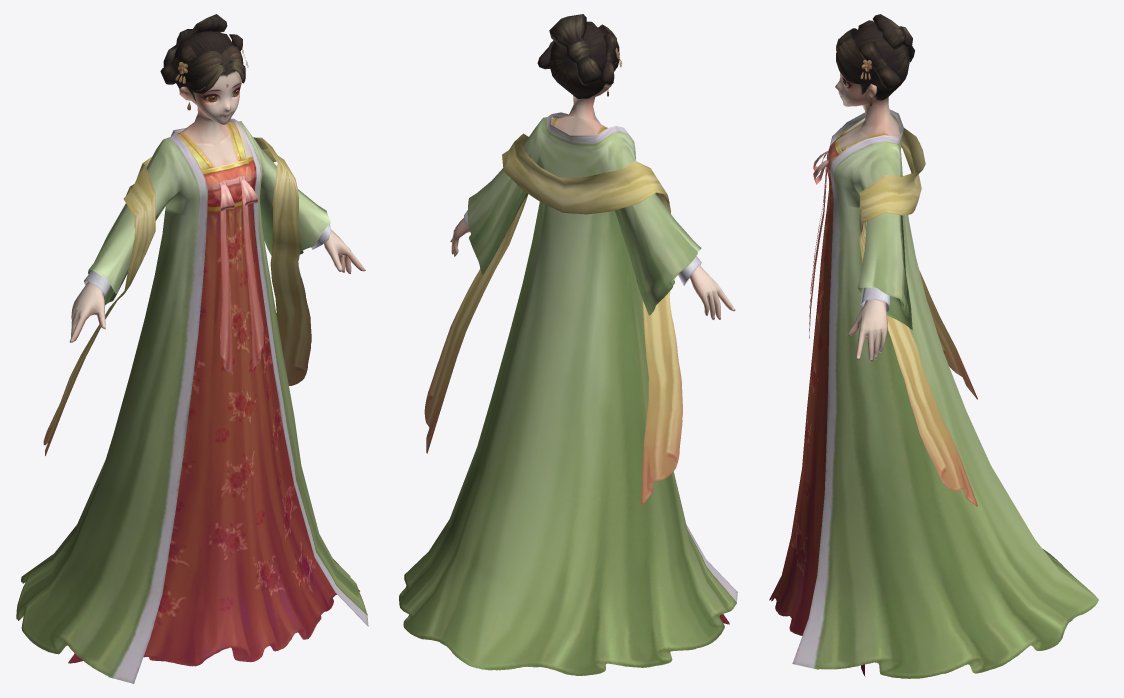
3 views of the same model, side by side, from view 1: azimuth 30°, elevation 25°; view 2: azimuth 150°, elevation 25°; view 3: azimuth 270°, elevation 25° (orthographic). The views are drawn at different scales.
Parts seen in each view (by area): view 1: GN; view 2: GN; view 3: GN.
Boxes of the visible parts, <box> form: GN: <box>16,14,368,683</box>; GN: <box>399,14,737,675</box>; GN: <box>769,14,1098,678</box>.
Bounding box in the file's own units: 0.8545 × 1.55 × 0.812.
